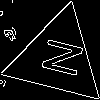N: (32, 33, 84, 80)
